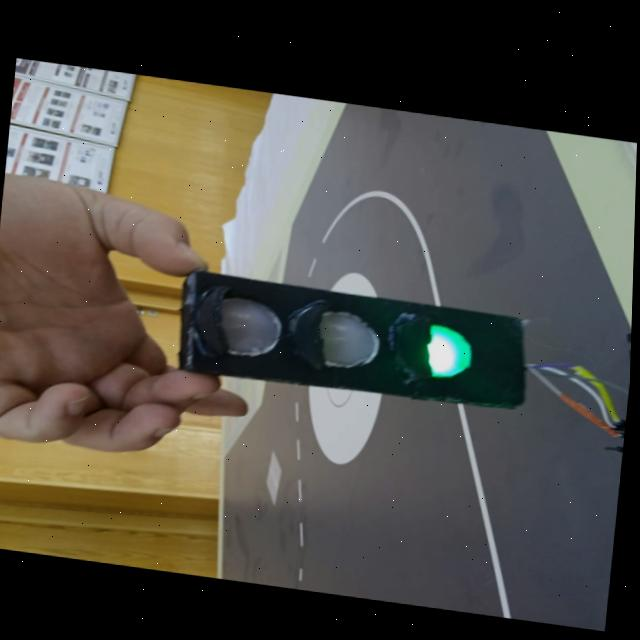green: (425, 324, 471, 377)
trafic lights: (179, 270, 525, 408)
